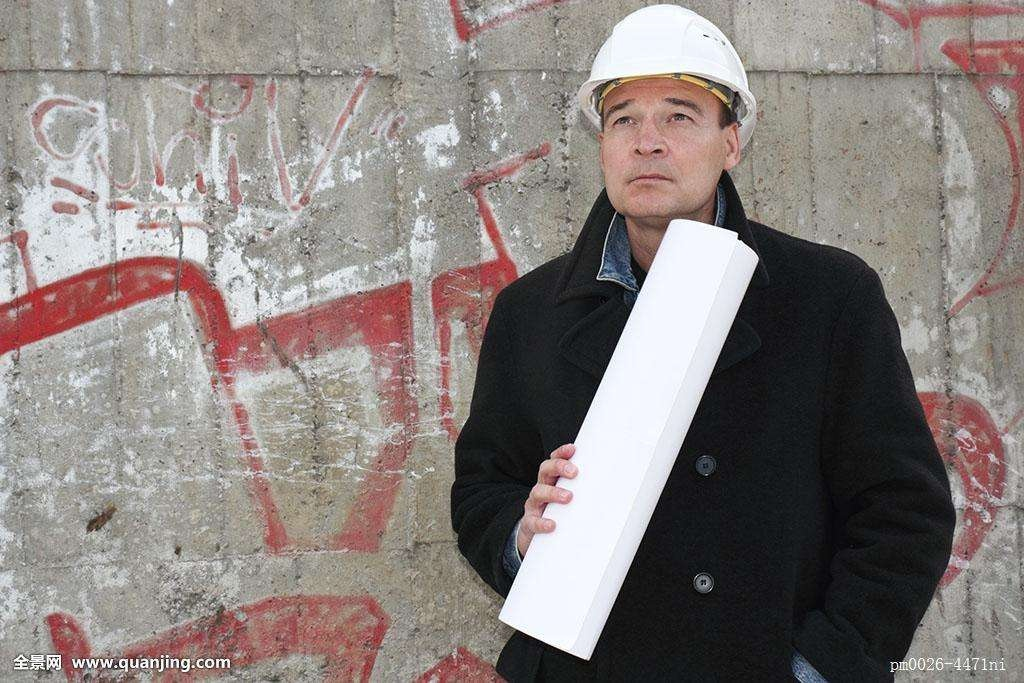white: (581, 5, 755, 221)
